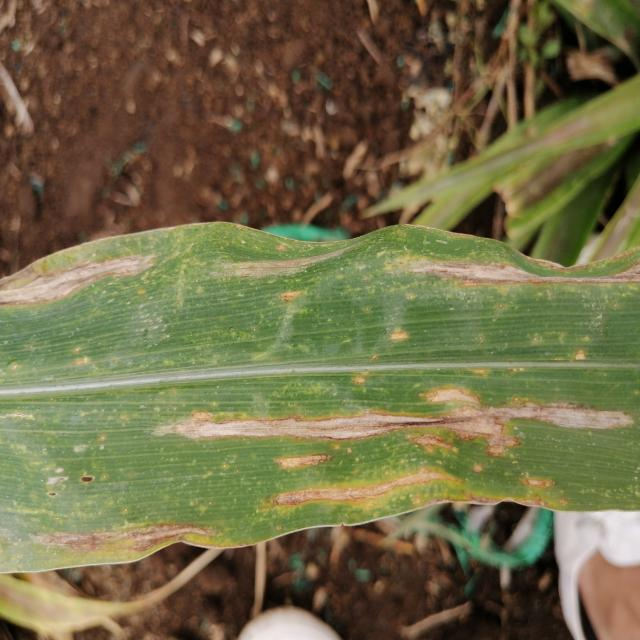Corn_Leaf_Blight: (0, 220, 640, 524)
